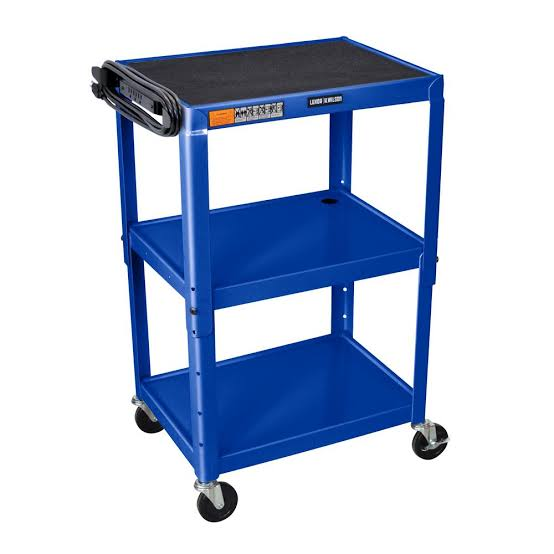Carts: (88, 32, 464, 525)
